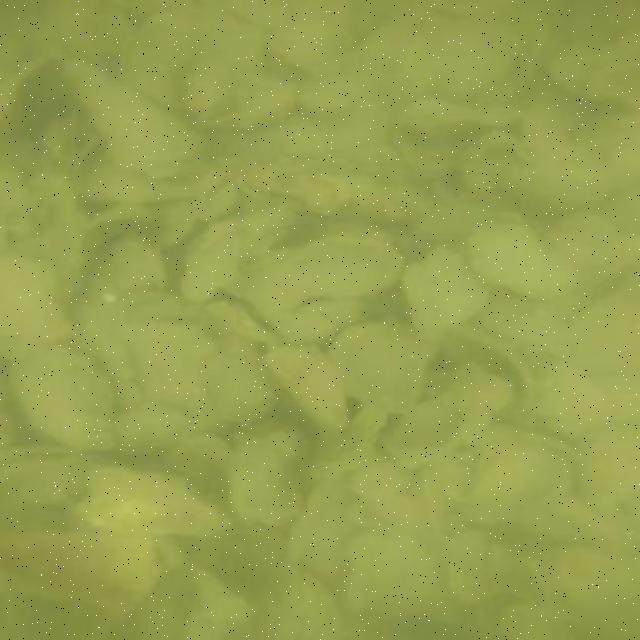Oyster-Closed: (65, 62, 207, 176), (1, 528, 166, 622), (237, 236, 397, 309), (76, 468, 241, 535), (379, 374, 504, 462), (13, 344, 112, 451), (185, 204, 298, 296), (465, 438, 570, 522), (444, 326, 534, 421), (70, 147, 227, 201), (330, 319, 422, 410), (468, 219, 571, 297), (346, 531, 435, 613), (233, 433, 305, 530), (404, 250, 487, 333), (533, 354, 610, 440), (267, 347, 343, 428), (484, 536, 567, 610), (397, 96, 528, 139), (498, 165, 617, 212), (201, 74, 298, 129), (206, 351, 277, 423), (580, 426, 635, 513), (95, 234, 171, 296), (0, 61, 63, 134), (198, 293, 278, 349), (187, 568, 257, 627), (118, 403, 192, 455), (171, 432, 228, 490), (453, 561, 500, 601)
